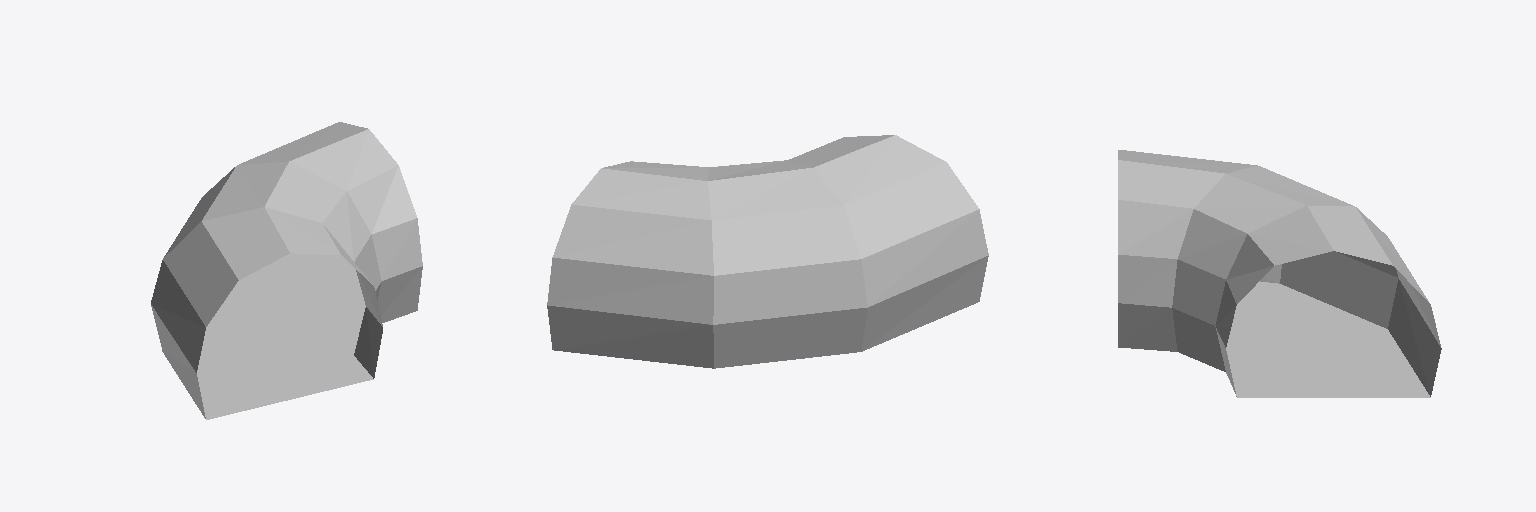
The model's file is underground_section_turned.obj.
3 renders of one model, left to right at view 1: azimuth 30°, elevation 25°; view 2: azimuth 150°, elevation 25°; view 3: azimuth 270°, elevation 25°, orthographic.
Parts seen in each view (by area): view 1: SewerSectionC_00; view 2: SewerSectionC_00; view 3: SewerSectionC_00.
Part boxes in pixels (x1,y1,x2,y2): SewerSectionC_00: (151,122,422,419); SewerSectionC_00: (547,135,988,368); SewerSectionC_00: (1118,150,1441,397).
Size of the model in its own units: 6 by 3 by 6.